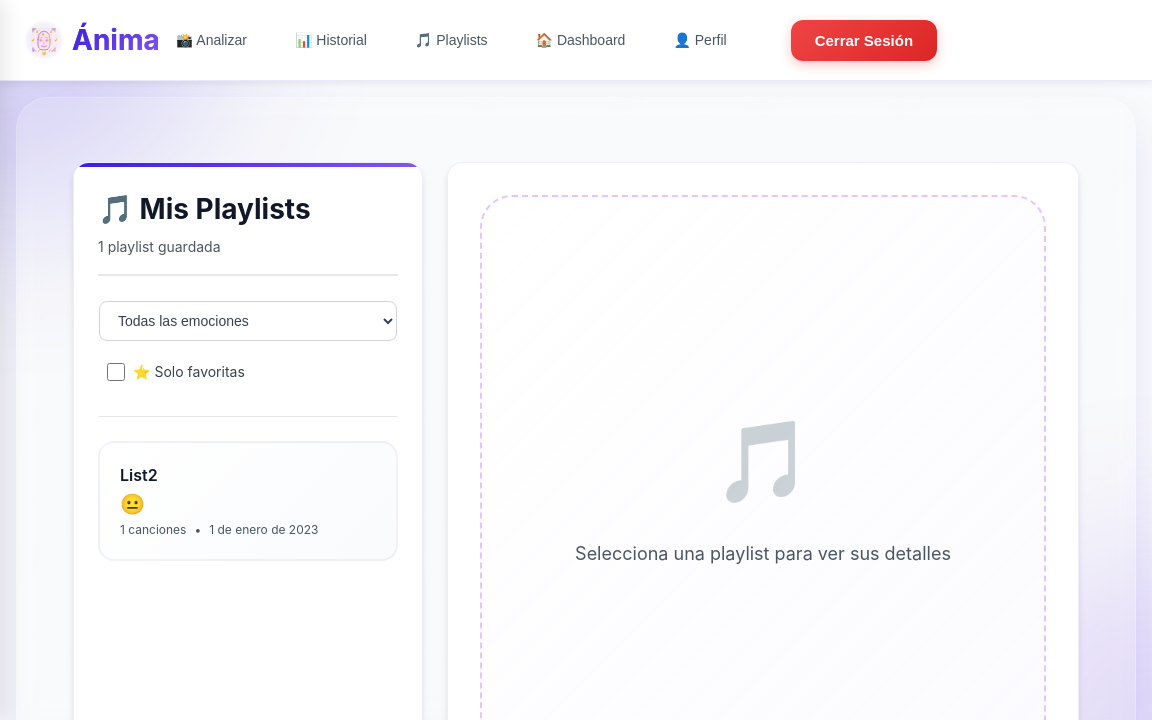
Test: PlaylistsPage › does not render play overlay when no preview_url and shows open-in-spotify button
Click the heading "List2". click: {"x": 139, "y": 475}
box: x1=120 y1=465 x2=158 y2=485
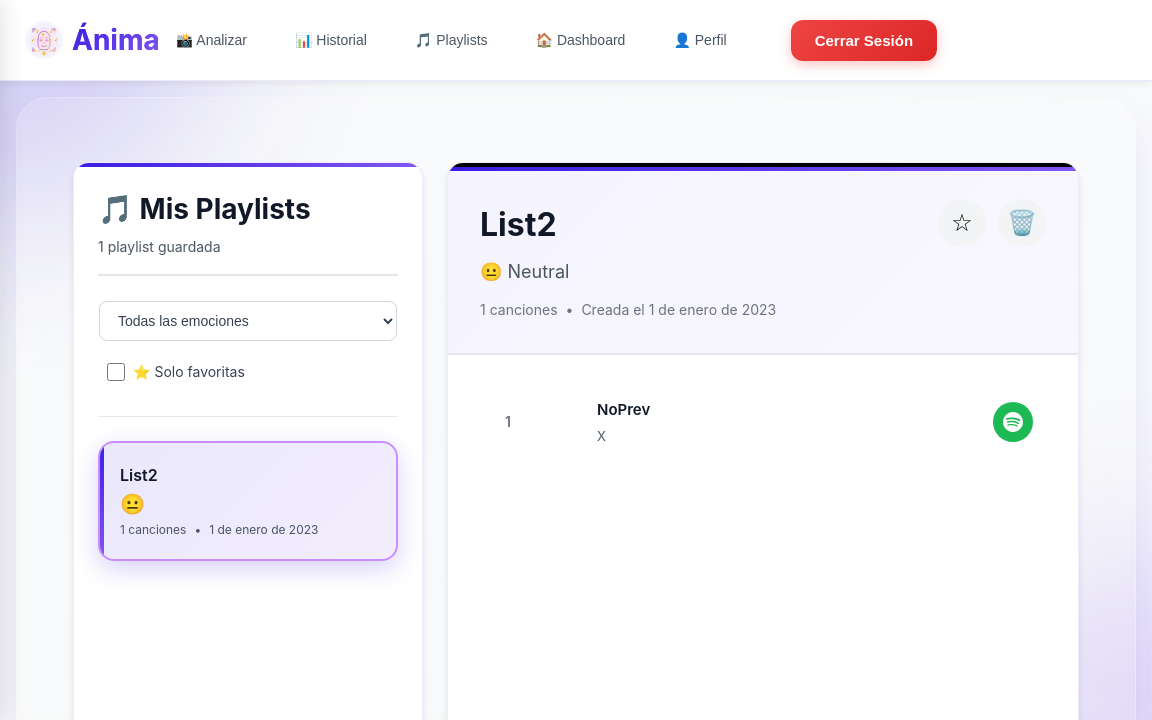
expect the button with class "track-spotify-btn-small" is shown: met, box x1=993 y1=402 x2=1033 y2=442
